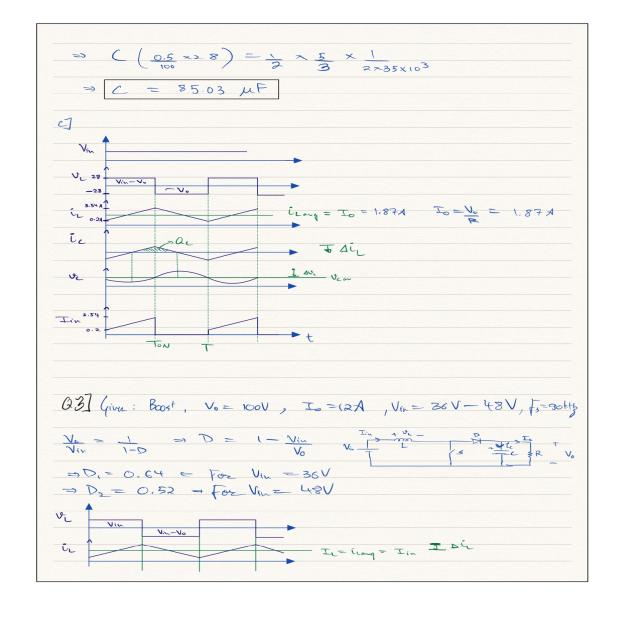capacitor: (490, 447, 514, 459)
diode: (468, 436, 488, 447)
inductor: (391, 435, 416, 445)
resistor: (526, 446, 535, 461)
source: (356, 444, 387, 456)
switch: (443, 445, 462, 457)
